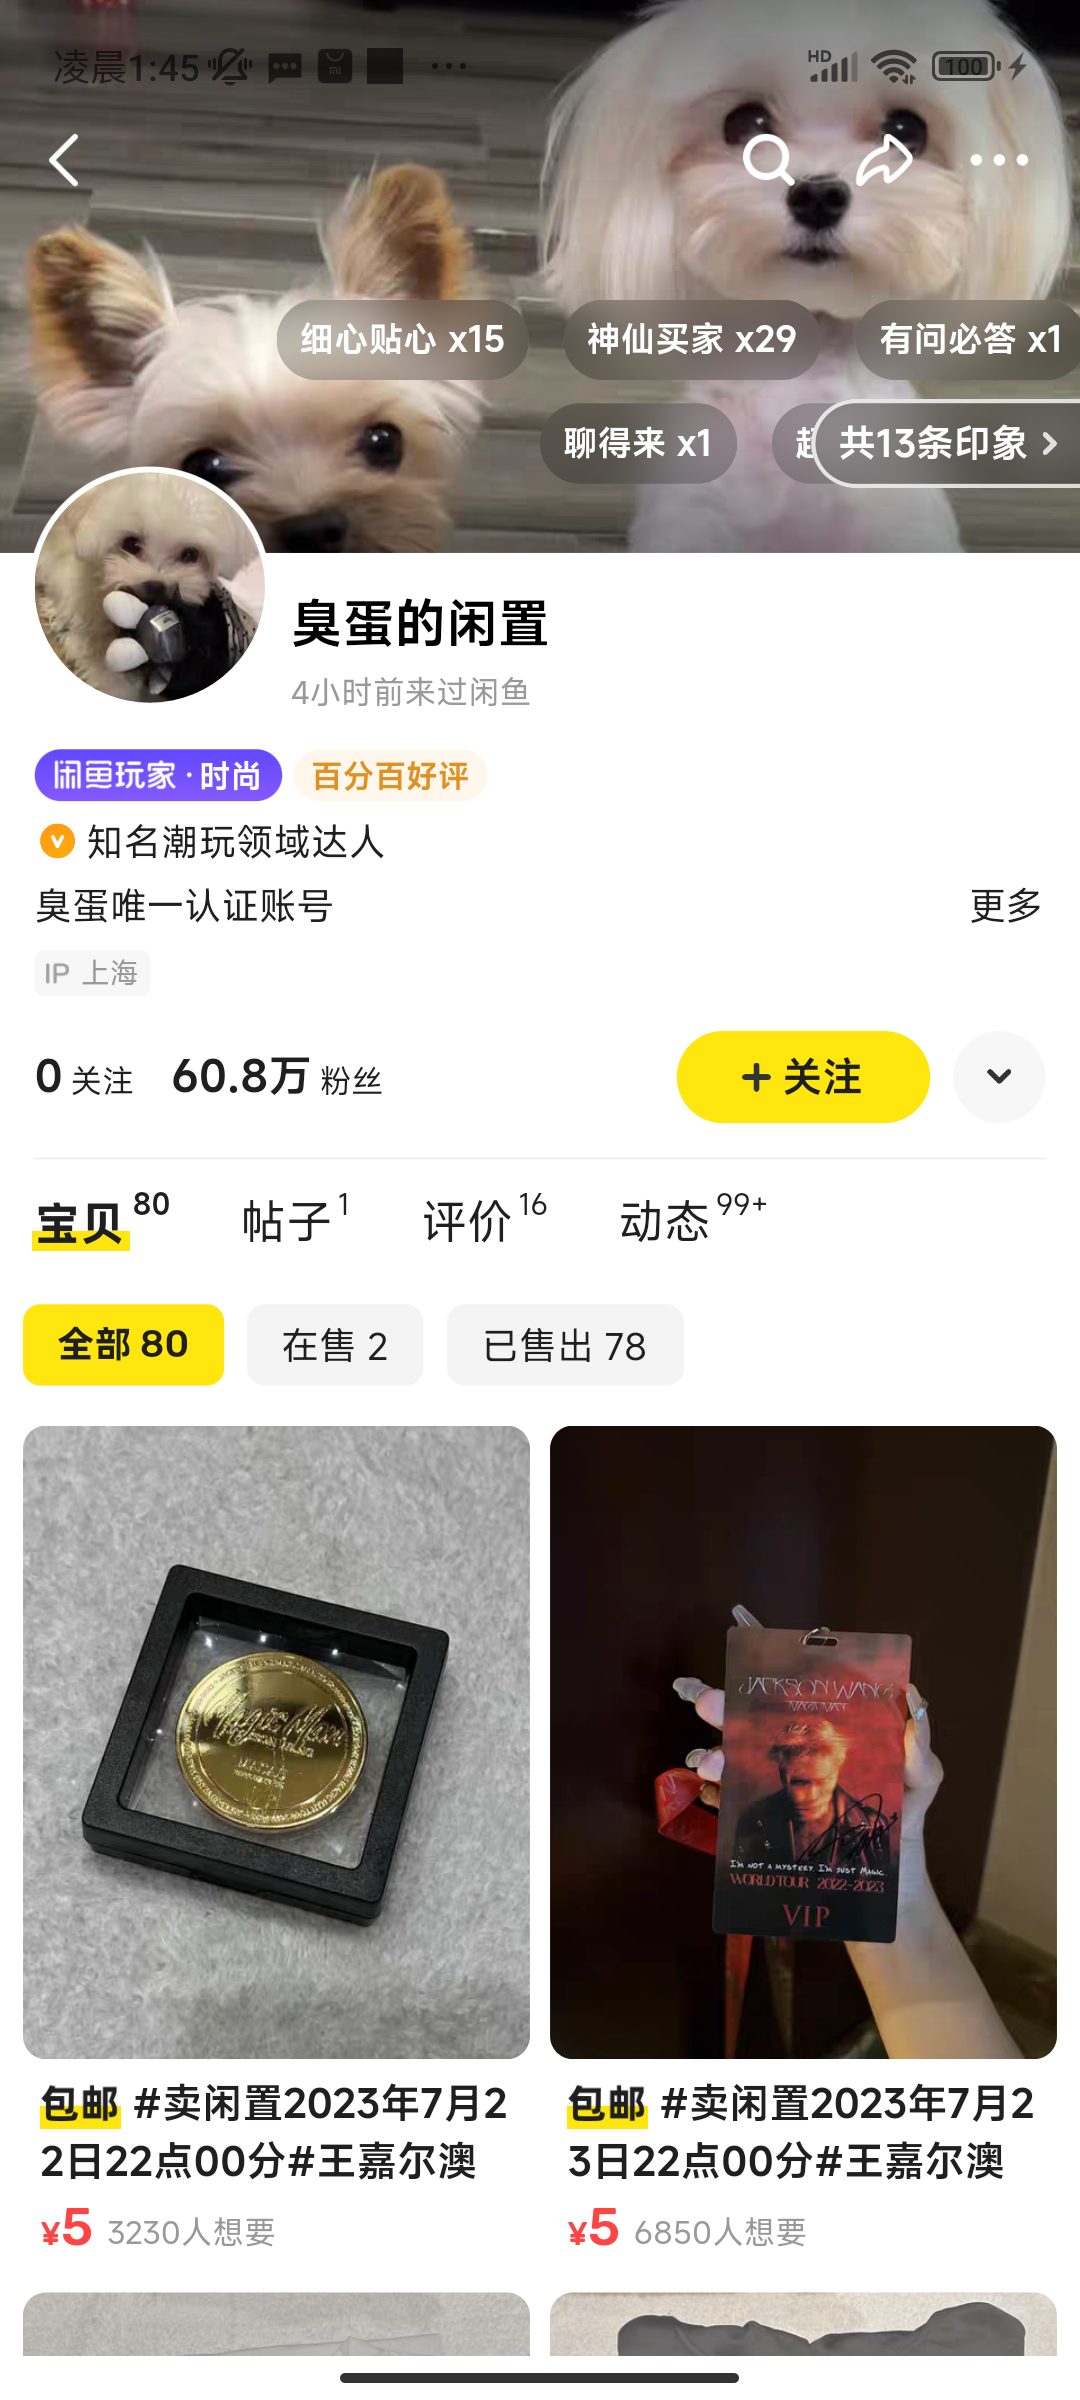ui_group: (15, 1414, 538, 2261), (23, 1013, 1043, 1133), (15, 1298, 231, 1393), (17, 1162, 187, 1280)
